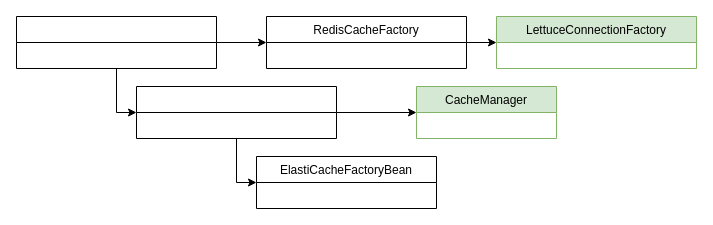
Some shapes in this 713 by 225 pixel diagram are drawn without their labels. The shapes that lost their labels are listed below. From the top down, each one's centre as x and y in pixels, then its label:
At pixel 116 42: "ElastiCacheAutoConfiguration".
At pixel 236 112: "ElastiCacheCacheConfigurer".
